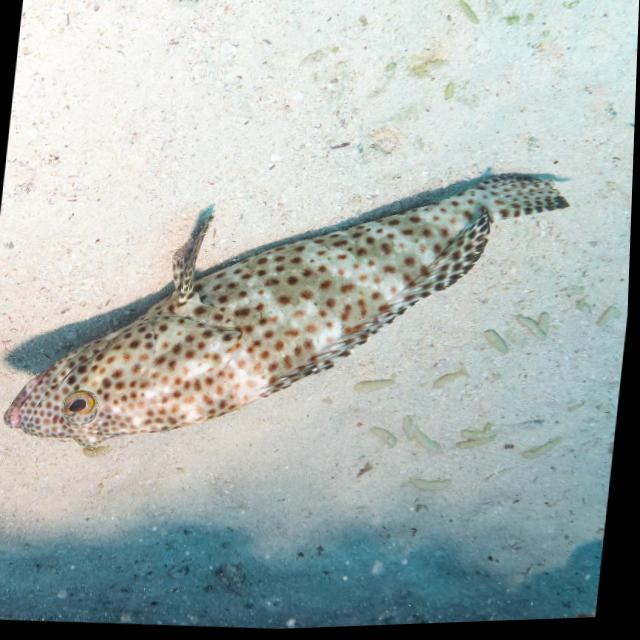Groupers: (0, 131, 574, 476)
